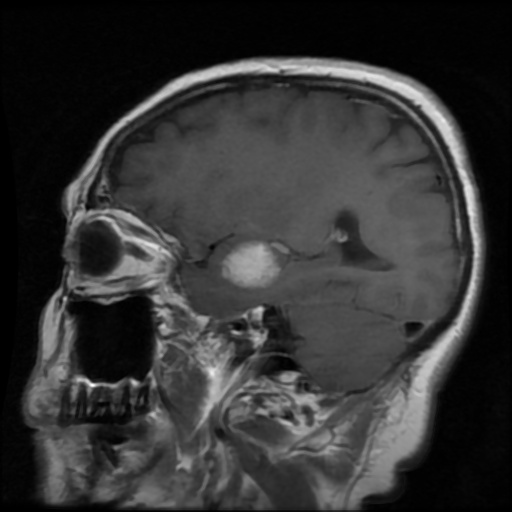meningioma: (221, 240, 283, 288)
